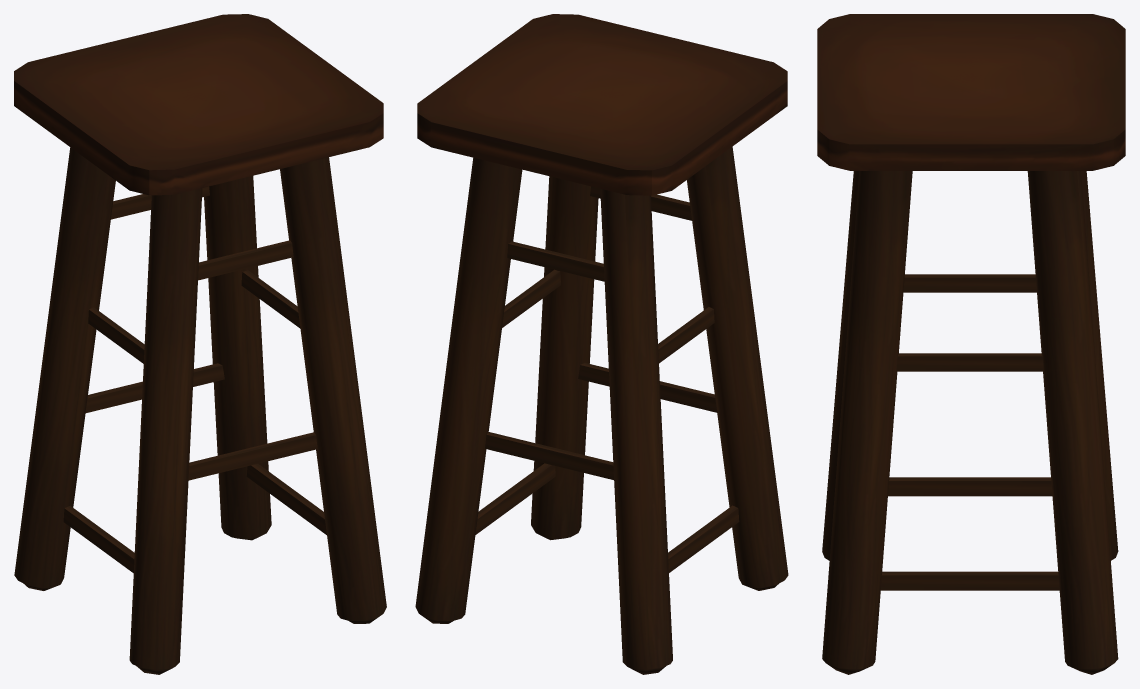
The model's file is Stool_B.fbx.
3 renders of one model, left to right at view 1: azimuth 30°, elevation 25°; view 2: azimuth 150°, elevation 25°; view 3: azimuth 270°, elevation 25°, orthographic. The views are drawn at different scales.
Visible parts, largest first — view 1: Stool_Legs_A, Stool_Base_B, Stool_Supports_A; view 2: Stool_Legs_A, Stool_Base_B, Stool_Supports_A; view 3: Stool_Legs_A, Stool_Base_B, Stool_Supports_A.
Part boxes in pixels (box(x1,y1,x2,y2)): Stool_Legs_A: box(14, 147, 386, 674); Stool_Base_B: box(14, 14, 383, 195); Stool_Supports_A: box(63, 186, 326, 572); Stool_Legs_A: box(415, 146, 788, 674); Stool_Base_B: box(417, 14, 787, 195); Stool_Supports_A: box(475, 186, 739, 572); Stool_Legs_A: box(822, 171, 1118, 674); Stool_Base_B: box(817, 14, 1125, 170); Stool_Supports_A: box(880, 274, 1059, 590).
Size of the model in its own units: 4.88 by 9.39 by 4.88.
